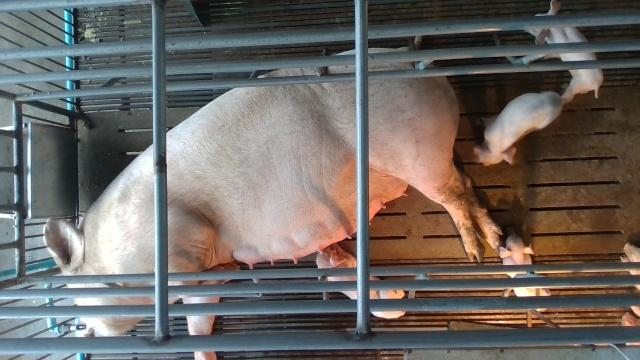piglet: (519, 0, 604, 102), (472, 91, 563, 168), (318, 243, 406, 318), (499, 227, 552, 313)
sow-sleep-lactate: (44, 47, 503, 360)
